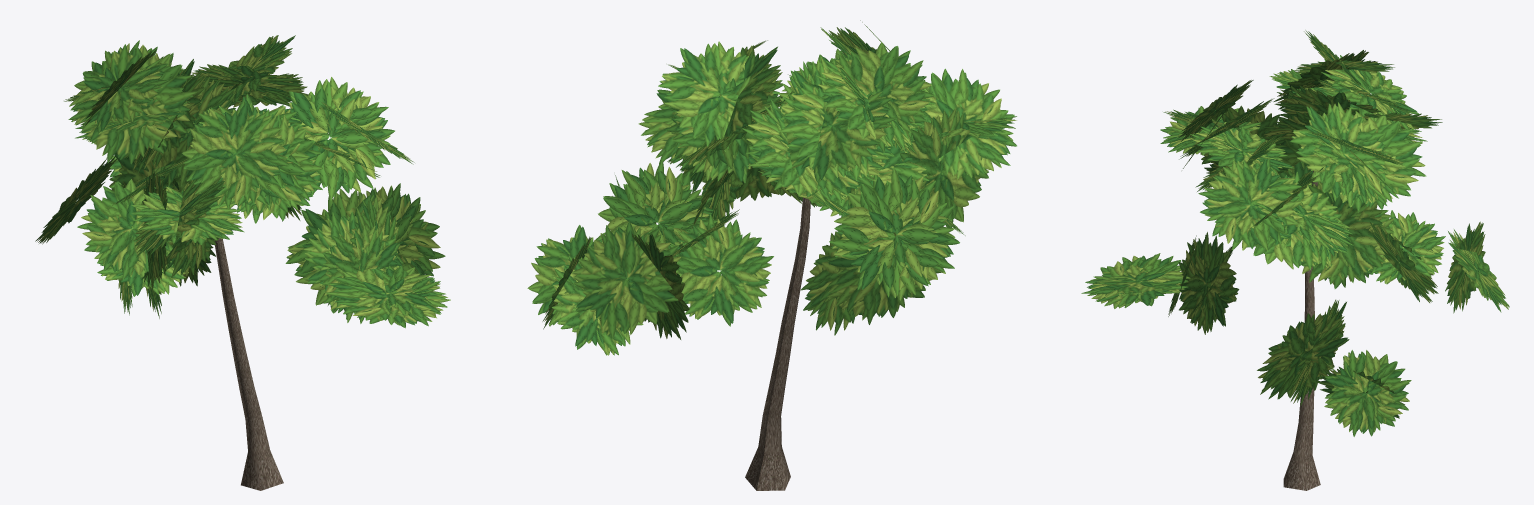
File: arvore_bl_a_lo.glb
3 renders of one model, left to right at view 1: azimuth 30°, elevation 25°; view 2: azimuth 150°, elevation 25°; view 3: azimuth 270°, elevation 25°, orthographic. The views are drawn at different scales.
Visible parts, largest first — view 1: arvore_bl_a_lo; view 2: arvore_bl_a_lo; view 3: arvore_bl_a_lo.
Part boxes in pixels (<box>): arvore_bl_a_lo: <box>35,35,450,490</box>; arvore_bl_a_lo: <box>527,20,1016,490</box>; arvore_bl_a_lo: <box>1081,30,1509,490</box>.
Bounding box in the file's own units: 10.29 × 11.2 × 11.02.
2 materials, 2 textured.
